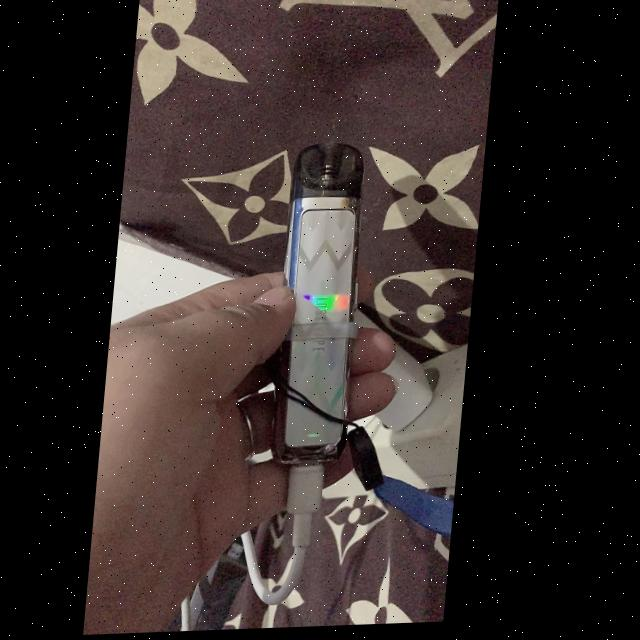vape: (274, 151, 374, 469)
